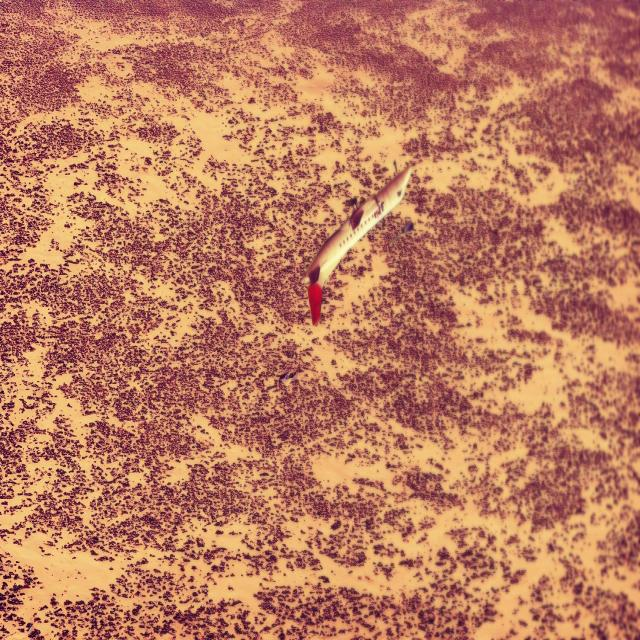airplane: (301, 159, 412, 326)
